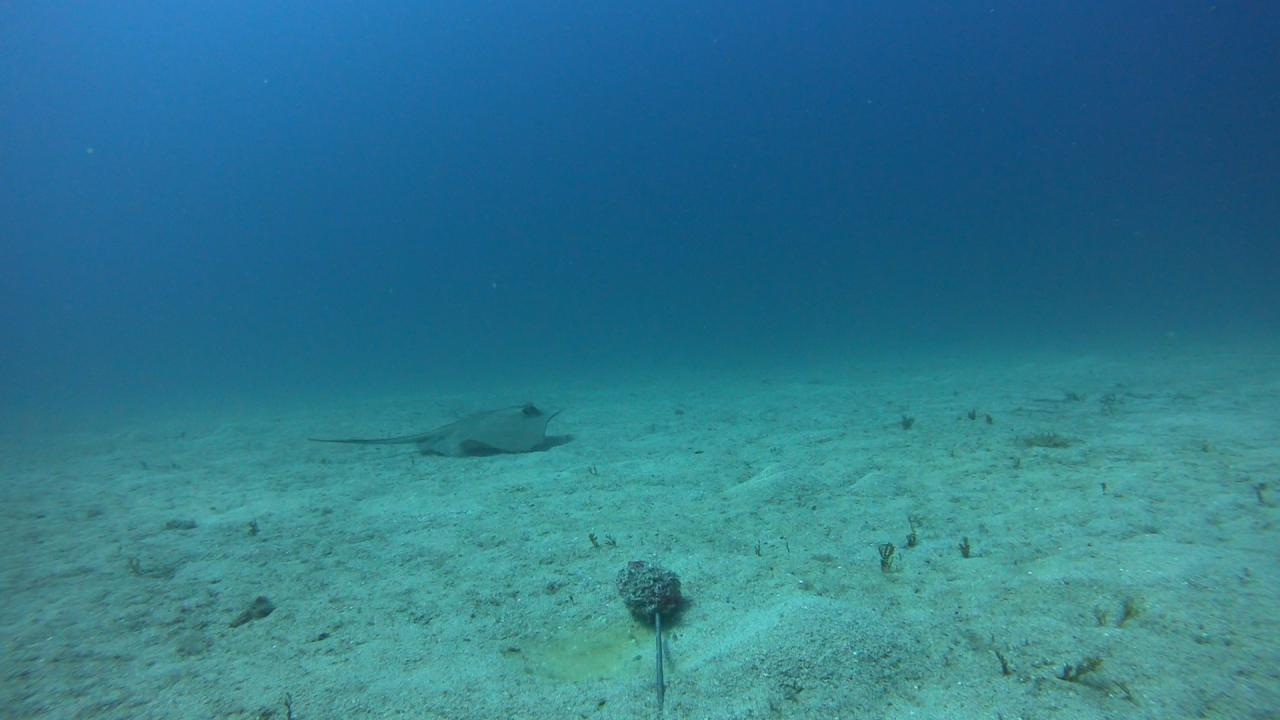dasyatis: (306, 400, 562, 458)
